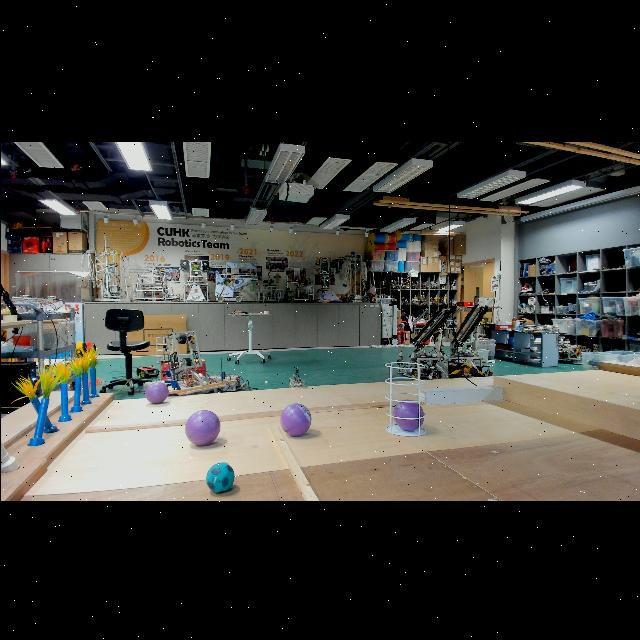P: (184, 409, 220, 445), (279, 402, 311, 436), (392, 398, 424, 430), (144, 381, 168, 404)
S: (382, 360, 426, 436), (156, 335, 172, 363)
